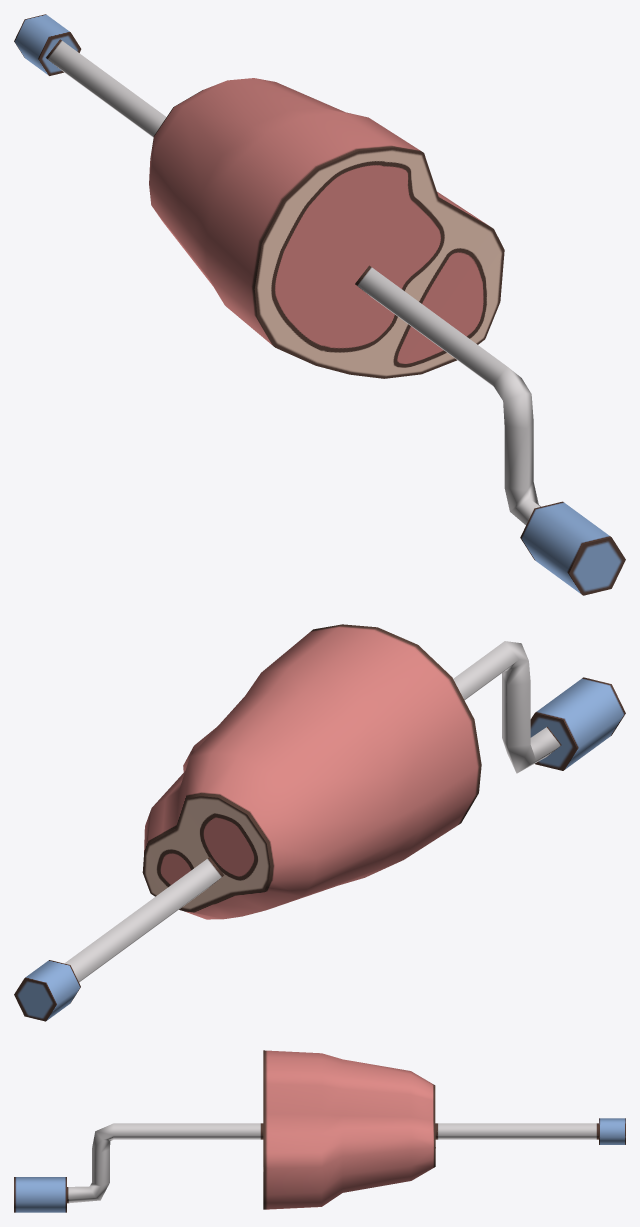
The model's file is Meat.fbx.
3 views of the same model, one above another, from view 1: azimuth 30°, elevation 25°; view 2: azimuth 150°, elevation 25°; view 3: azimuth 270°, elevation 25° (orthographic). The views are drawn at different scales.
Parts seen in each view (by area): view 1: Meat1; view 2: Meat1; view 3: Meat1.
Boxes of the visible parts, x1,y1,x2,y2 form: Meat1: (14,14,625,595); Meat1: (14,624,625,1021); Meat1: (14,1050,625,1212).
Bounding box in the file's own units: 38.37 × 40.4 × 150.
1 material, 1 textured.
